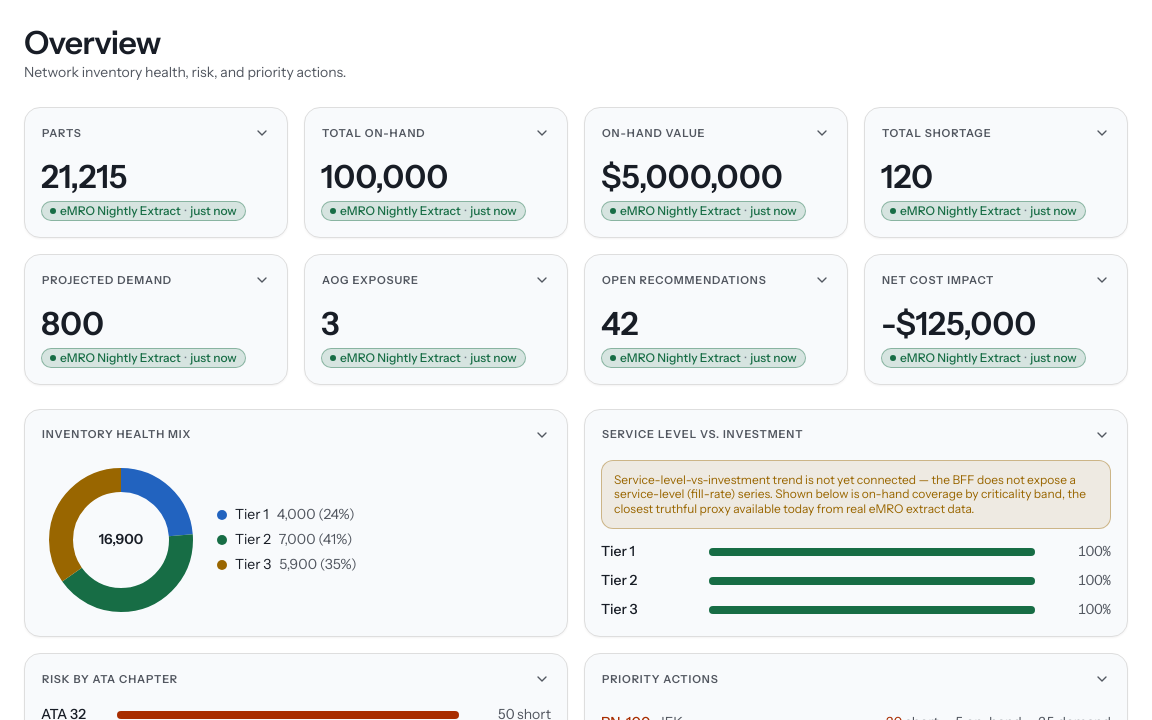
Test case: Overview › drill panels (F3) › opens the ATA-risk card's drill panel showing MORE rows than the top-8 preview list
Expected: the heading "Parts" is shown, top-left (42, 128), bottom-right (82, 139)
Click the button "Risk by ATA chapter": (110, 679) top-left (25, 654), bottom-right (567, 704)
(page scrolled)
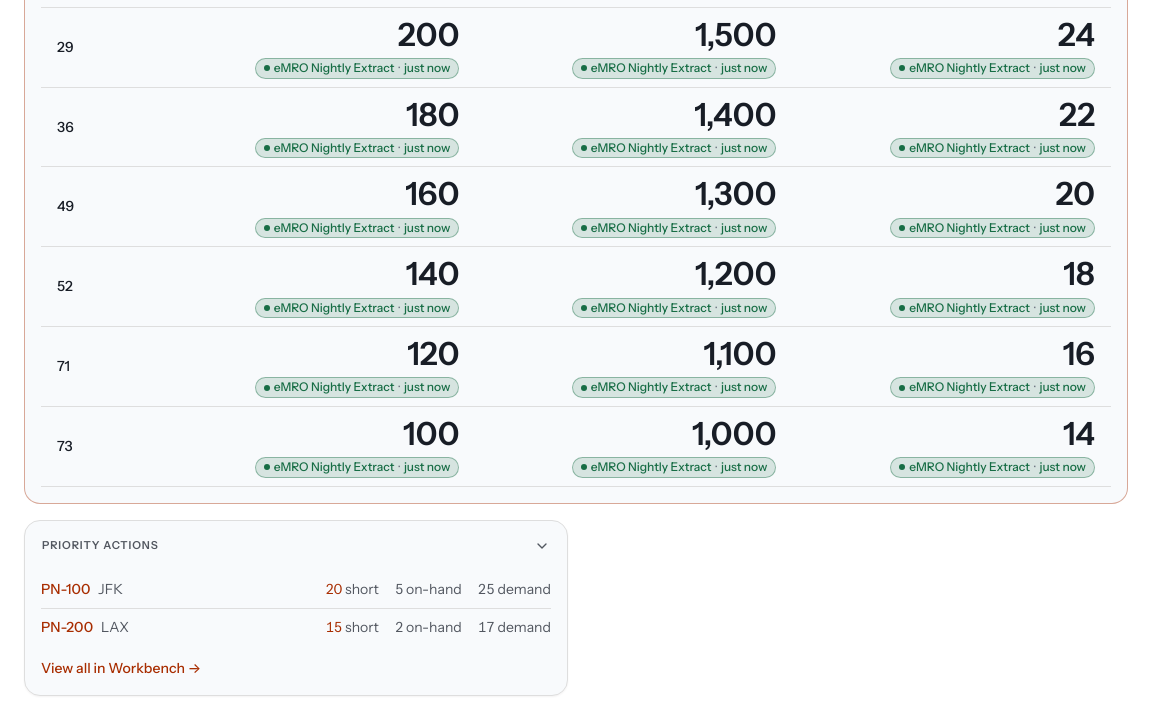
Expected: the 2nd row is shown, top-left (41, 7), bottom-right (1111, 87)
Expected: the 3rd row is shown, top-left (41, 87), bottom-right (1111, 167)
Expected: the 4th row is shown, top-left (41, 167), bottom-right (1111, 247)
